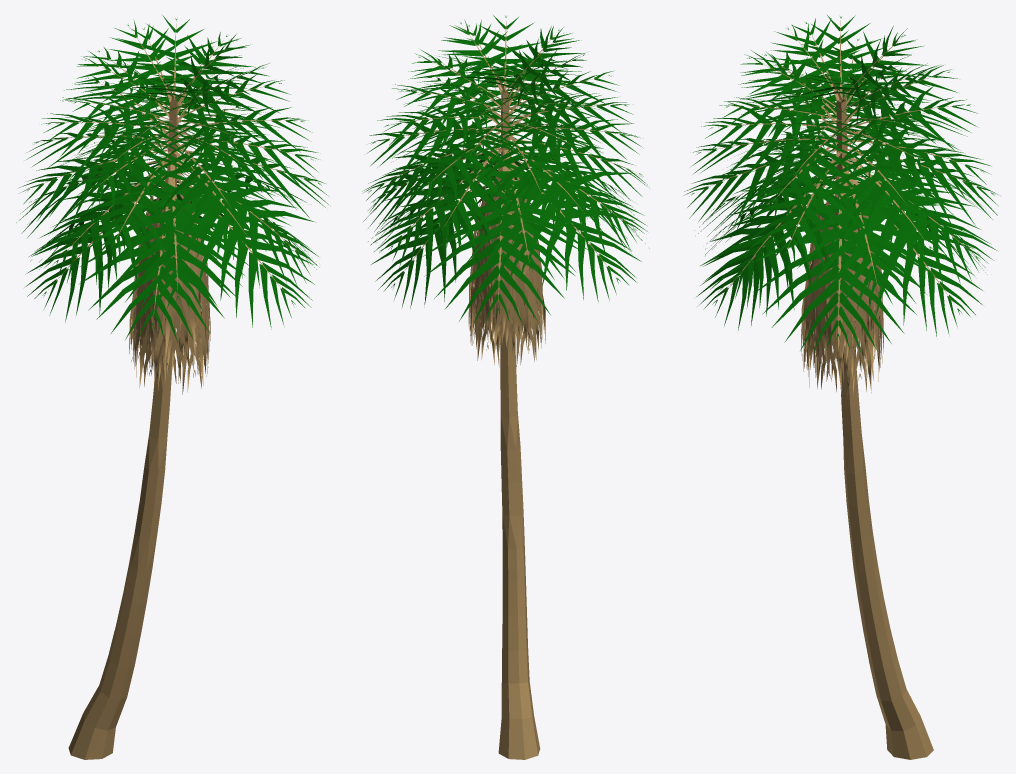
The model's file is Palm1.FBX.
3 renders of one model, left to right at view 1: azimuth 30°, elevation 25°; view 2: azimuth 150°, elevation 25°; view 3: azimuth 270°, elevation 25°, orthographic. The views are drawn at different scales.
Visible parts, largest first — view 1: Palm1_2, palm1_1, Palm1_3; view 2: Palm1_2, palm1_1, Palm1_3; view 3: Palm1_2, palm1_1, Palm1_3.
Boxes of the visible parts, left/top/right/bottom form: Palm1_2: left=16, top=15, right=328, bottom=342; palm1_1: left=68, top=100, right=177, bottom=759; Palm1_3: left=129, top=177, right=210, bottom=394; Palm1_2: left=362, top=15, right=649, bottom=325; palm1_1: left=498, top=91, right=540, bottom=759; Palm1_3: left=468, top=167, right=545, bottom=367; Palm1_2: left=683, top=15, right=998, bottom=354; palm1_1: left=836, top=99, right=933, bottom=759; Palm1_3: left=801, top=176, right=883, bottom=397.
Bounding box in the file's own units: 201 × 506 × 200.
